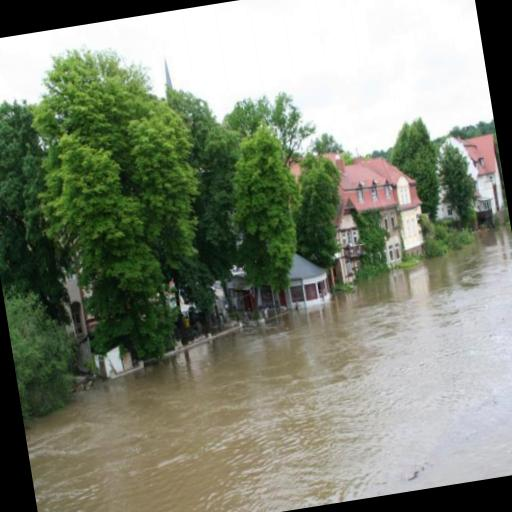flood: (25, 228, 512, 512)
house: (327, 148, 436, 284), (432, 130, 508, 226)
